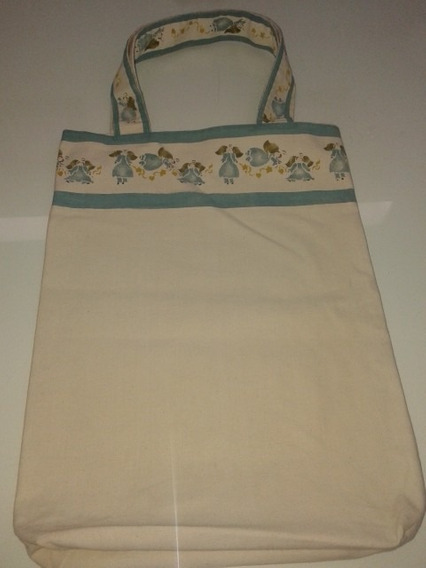cartera: (12, 10, 426, 565)
